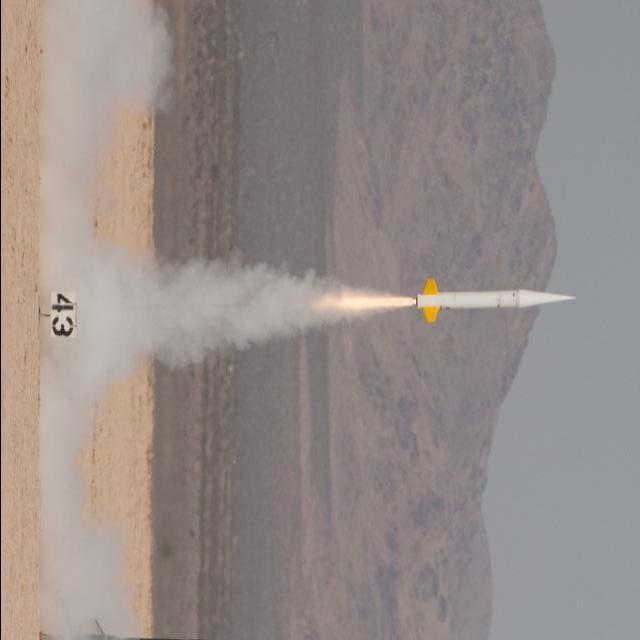missile: (412, 278, 576, 321)
